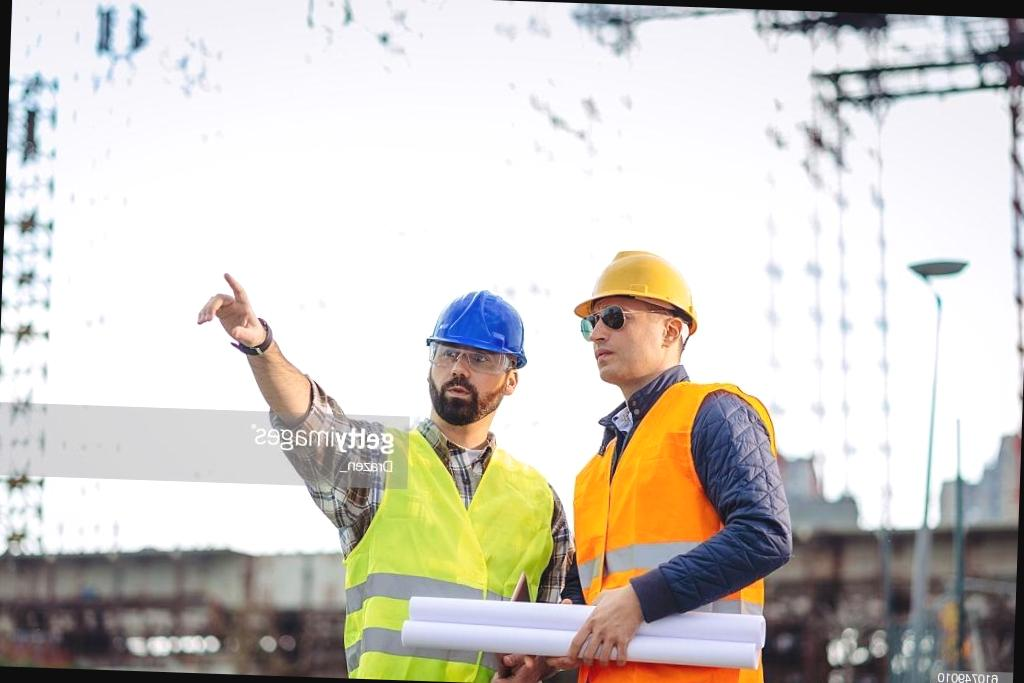helmet: (571, 247, 706, 325), (430, 290, 528, 364)
person: (561, 247, 802, 683), (326, 283, 563, 683)
